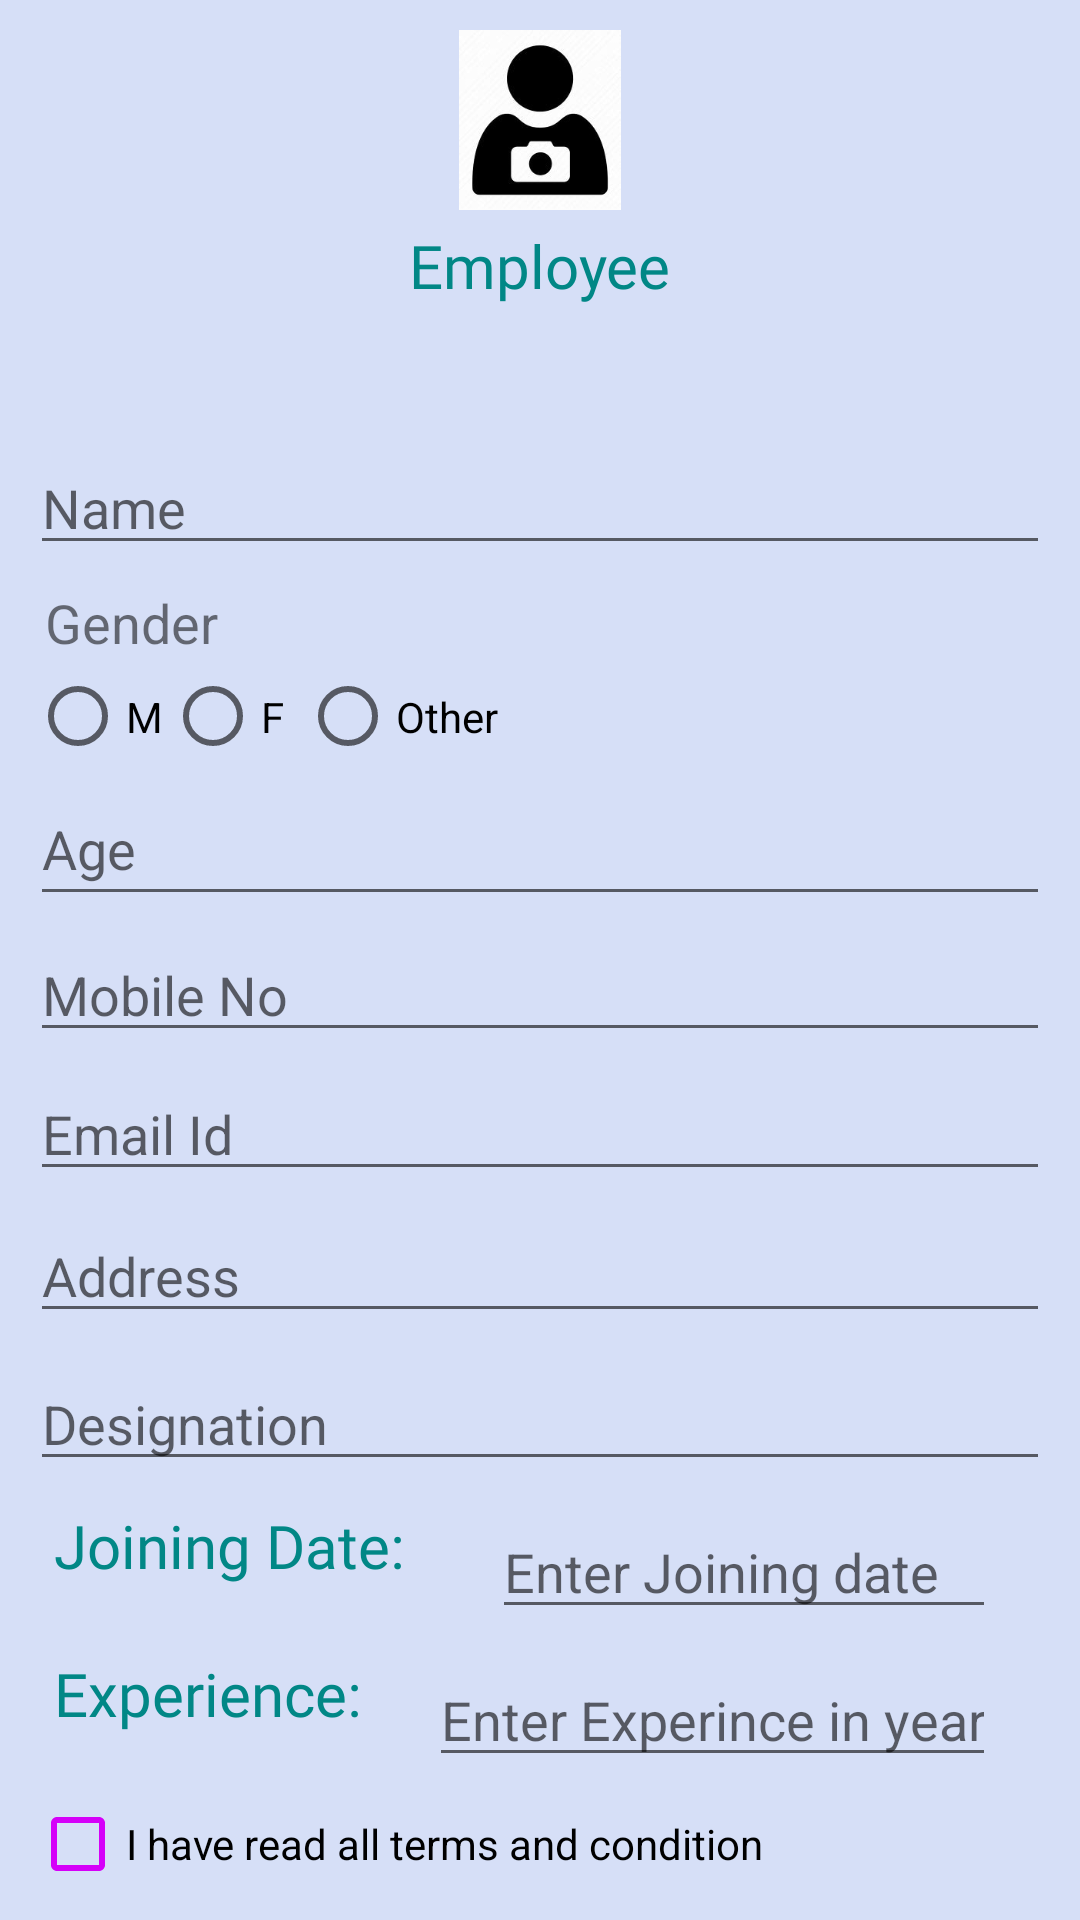

Locate icon controls on the screen. Image size 1080 x 1920, boxes as (x1, y1, x2, y2).
cmra: (459, 30, 621, 210)
